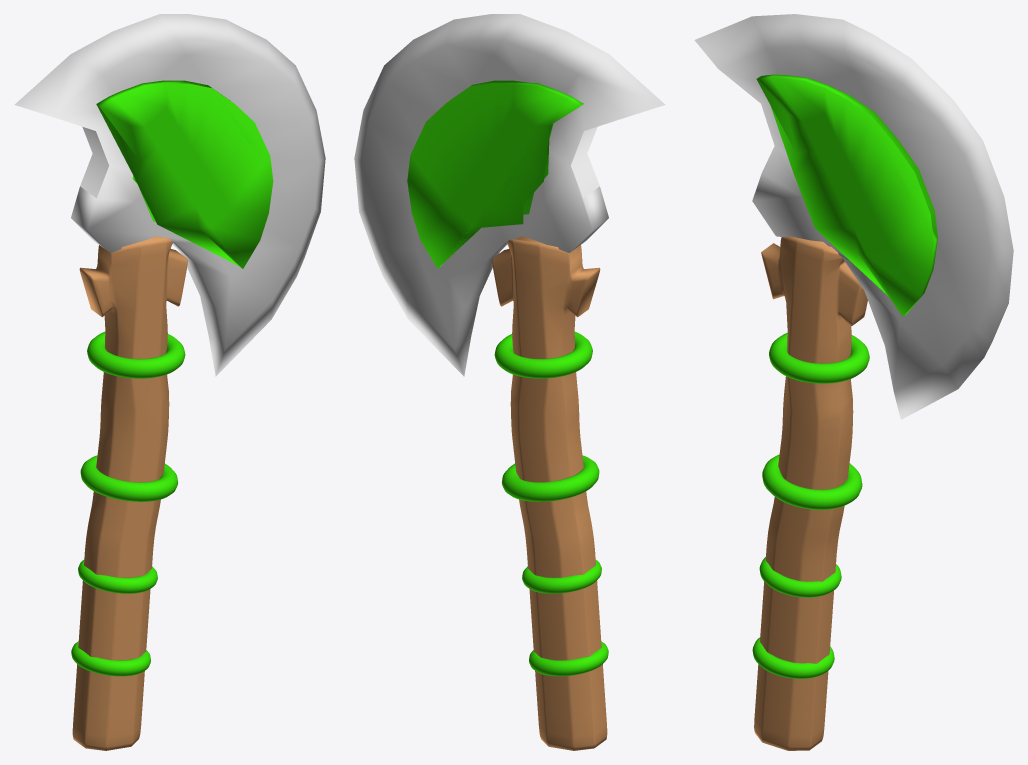
The model's file is TreeAxe.fbx.
3 renders of one model, left to right at view 1: azimuth 30°, elevation 25°; view 2: azimuth 150°, elevation 25°; view 3: azimuth 330°, elevation 25°, orthographic. The views are drawn at different scales.
Parts seen in each view (by area): view 1: Cube.001; view 2: Cube.001; view 3: Cube.001.
Part boxes in pixels (x1,y1,x2,y2): Cube.001: (14,14,325,750); Cube.001: (354,14,665,750); Cube.001: (694,14,1013,750).
Size of the model in its own units: 2.41 by 5.28 by 0.6596.
